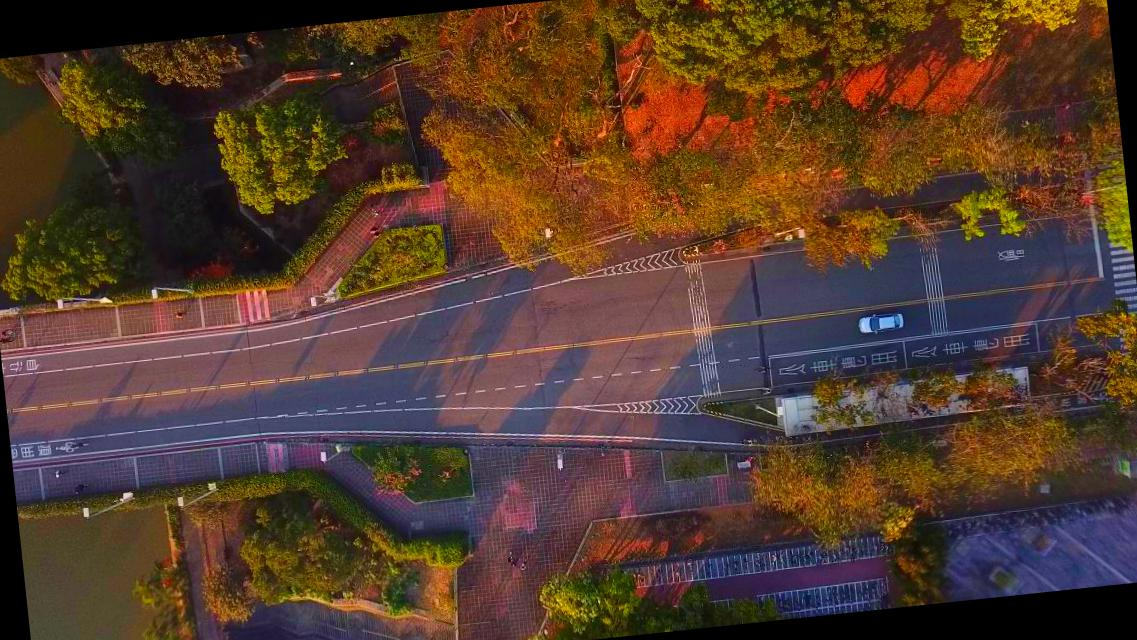vehicle: (858, 309, 905, 335)
